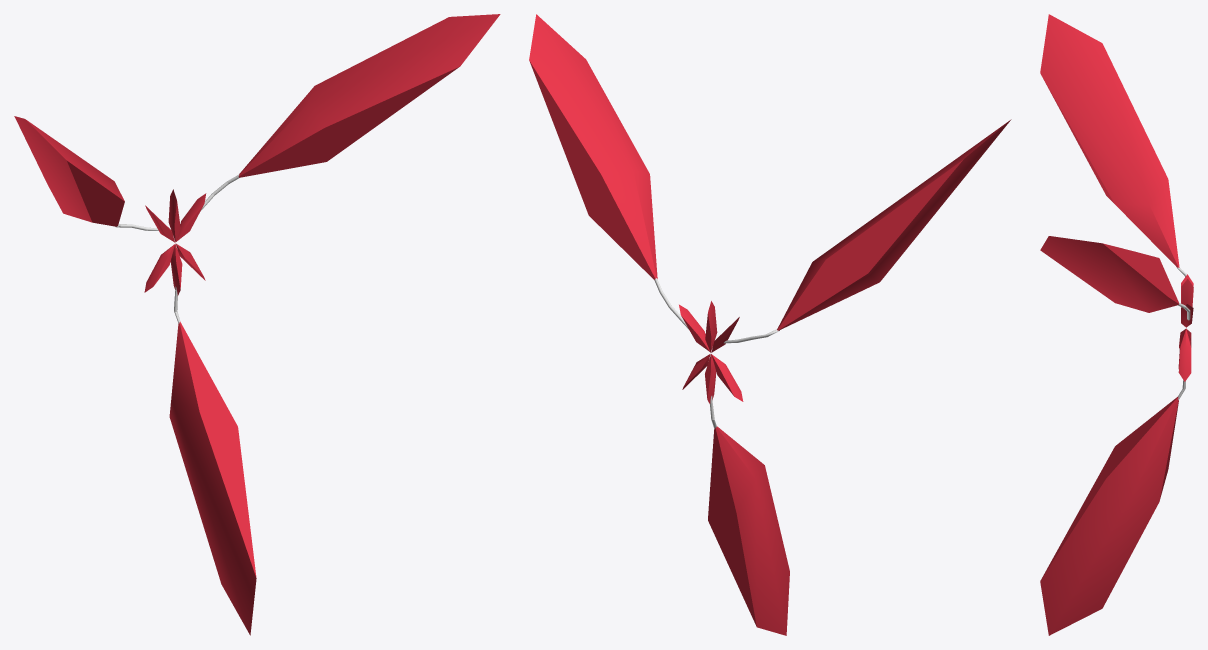
Rendered from Glass Chaser 2.fbx.
The picture shows the model from 3 angles, left to right: view 1: azimuth 30°, elevation 25°; view 2: azimuth 150°, elevation 25°; view 3: azimuth 270°, elevation 25°; orthographic projection. The views are drawn at different scales.
Visible parts, largest first — view 1: Cube.002, Cube.004, Cube.003, Cube.001; view 2: Cube.002, Cube.004, Cube.003, Cube.001; view 3: Cube.003, Cube.004, Cube.002, Cube.001.
Boxes of the visible parts, x1,y1,x2,y2 form: Cube.002: (238,14,500,177); Cube.004: (169,321,256,635); Cube.003: (14,116,124,226); Cube.001: (144,189,206,295); Cube.002: (529,14,657,279); Cube.004: (708,426,789,635); Cube.003: (777,119,1011,330); Cube.001: (679,301,743,403); Cube.003: (1040,14,1179,267); Cube.004: (1040,397,1178,635); Cube.002: (1040,236,1178,312); Cube.001: (1178,274,1193,381).
Bounding box in the file's own units: 2378 × 2733 × 730.
